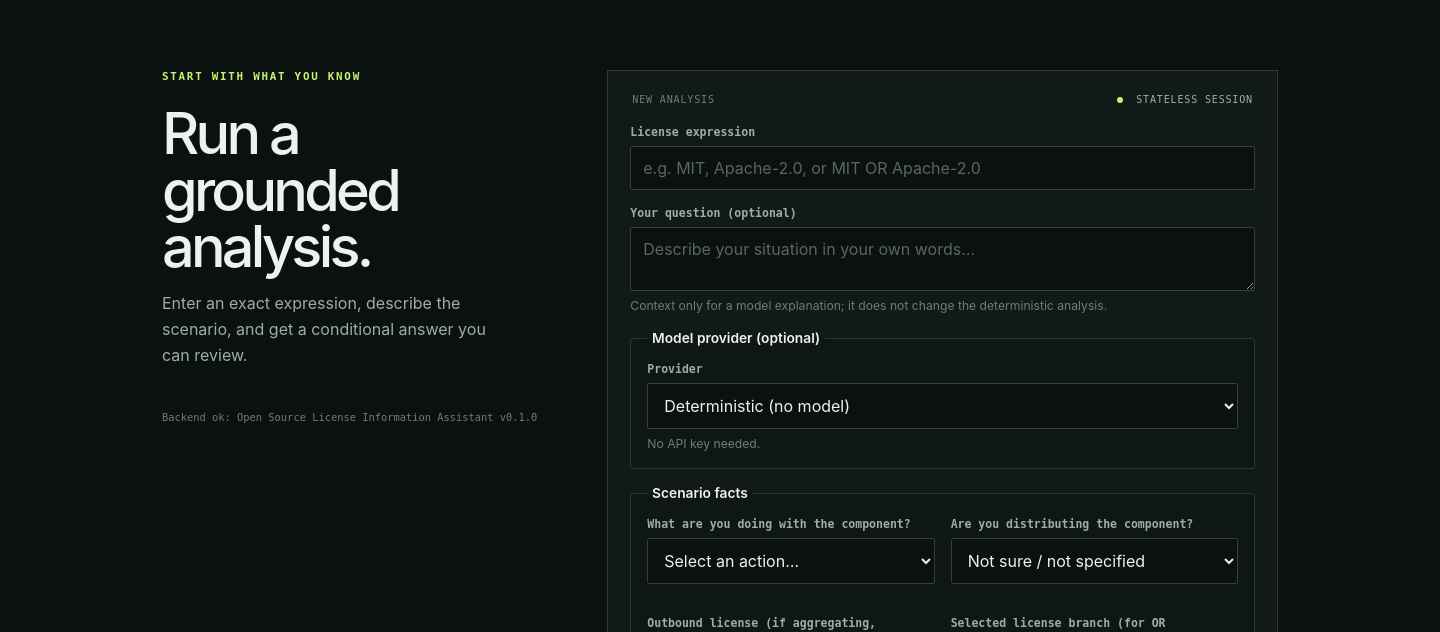
analysis experience › shows the deterministic fallback result even when a model provider is selected
(page scrolled)
Select "gemini" in the dropdown labelled "Provider" at (943, 406), box [647,383,1238,429]
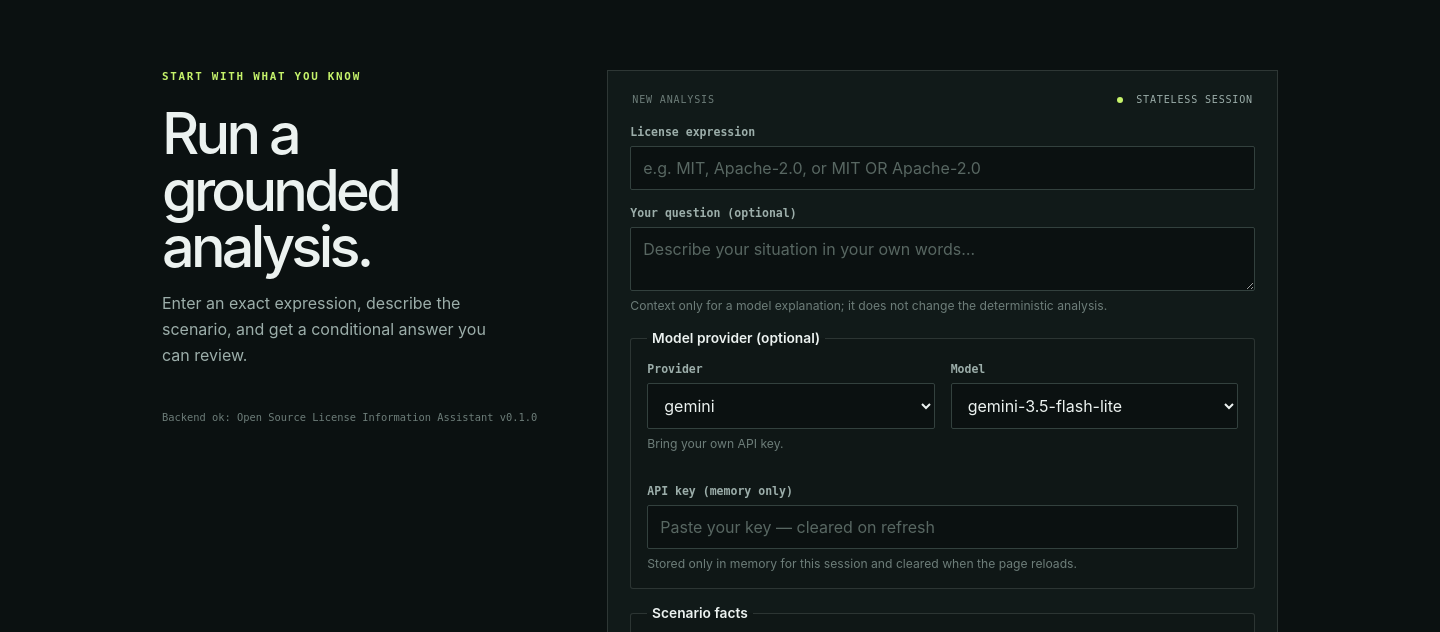
Type "sk-provider-key" into the password field labelled "API key (memory only)" at (943, 527), box [647,505,1238,549]
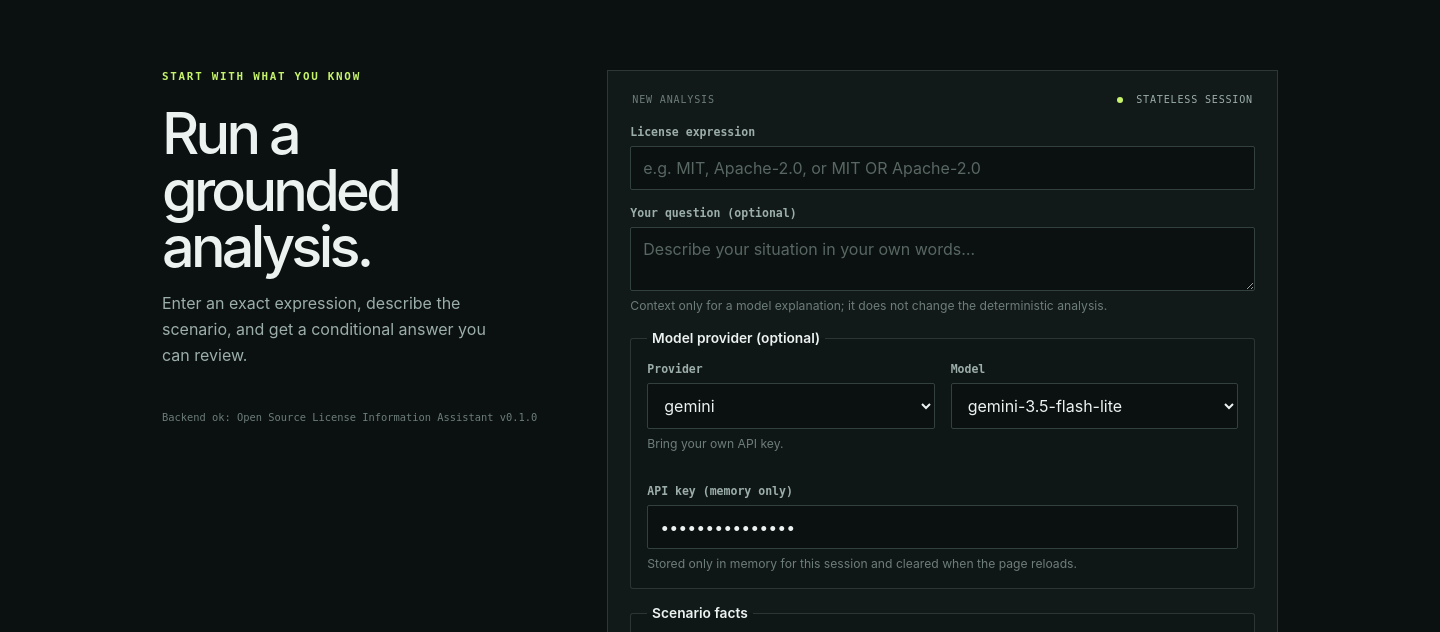
Type "Apache-2.0" into the field labelled "License expression" at (943, 168), box [630,146,1255,190]
(page scrolled)
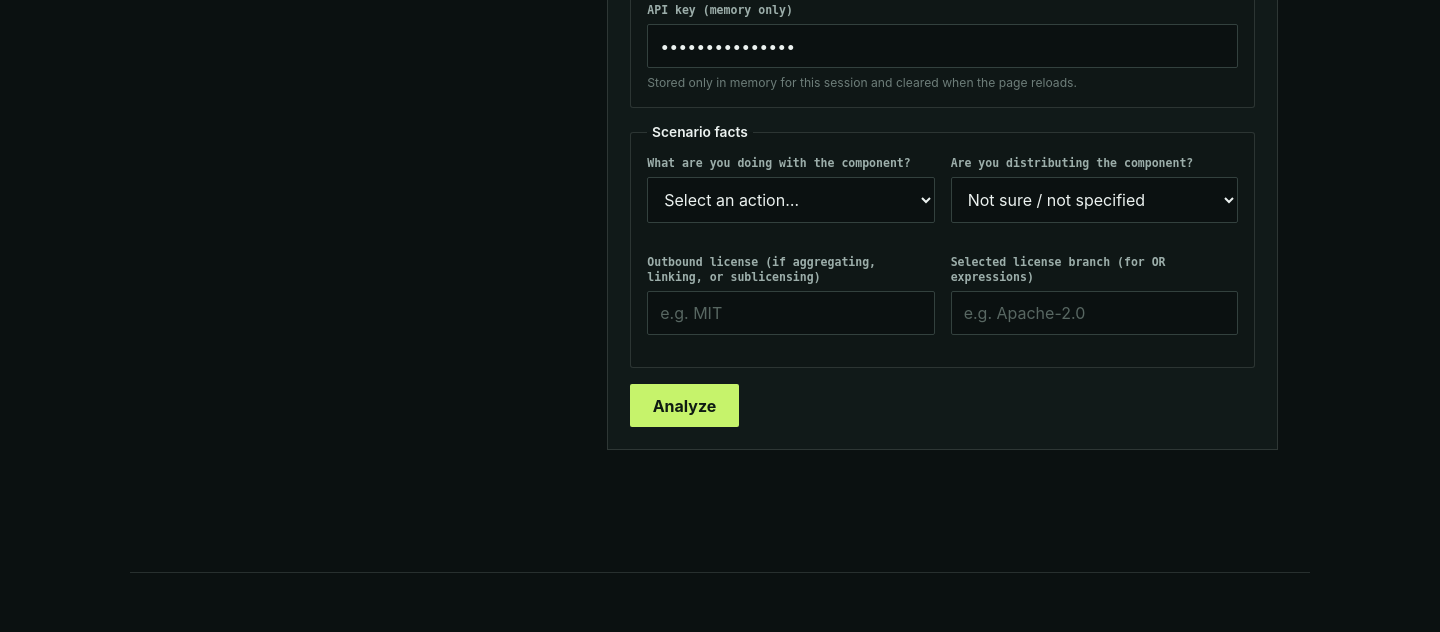
Click the button "Analyze" at (685, 406), box [630,384,739,427]
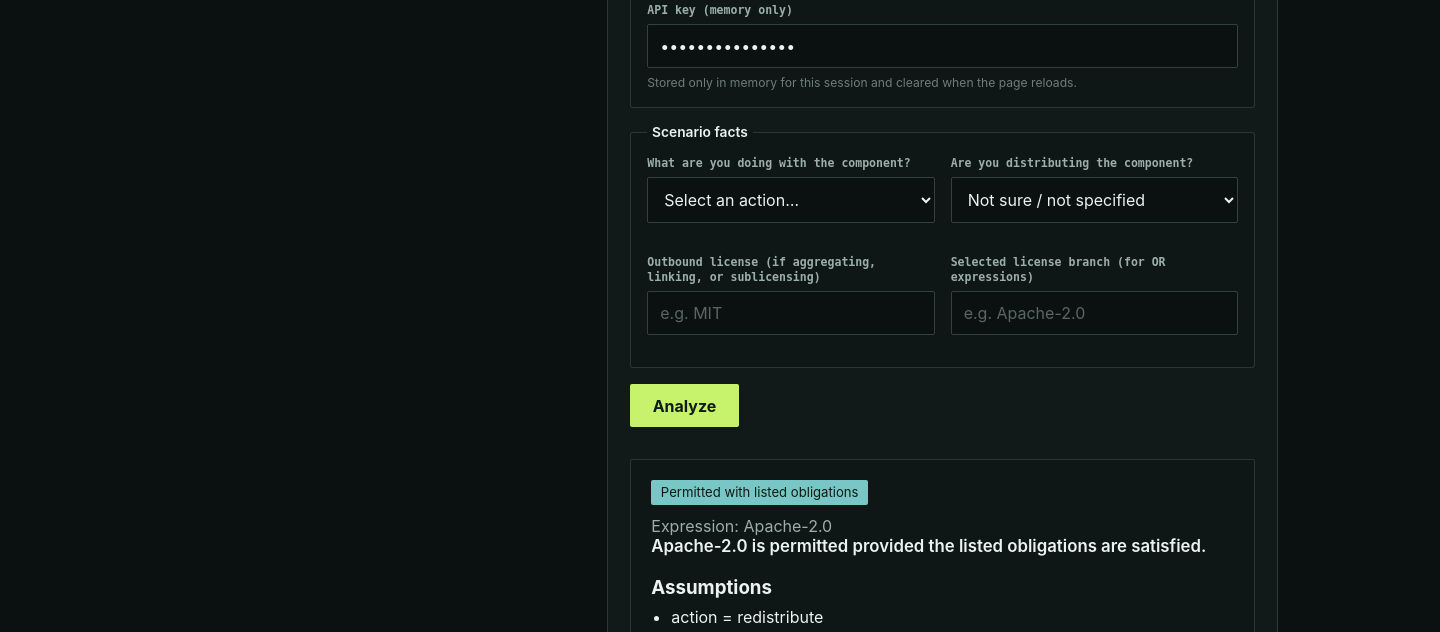
Now the text "Apache-2.0 is permitted provided the listed obligations are satisfied" is shown, box [651,536,1206,556]
